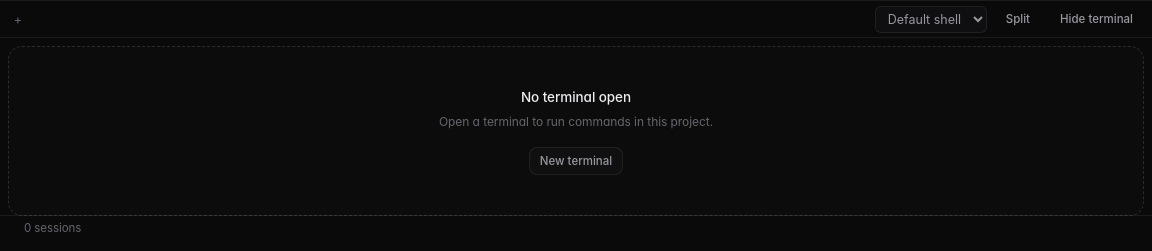
Test case: TerminalPanel › opens a session and renders it as a tab
Check: the text "No terminal open" is shown, box [521,87,631,109]
Click the button named "New terminal" at [18, 19], box [8,9,28,29]
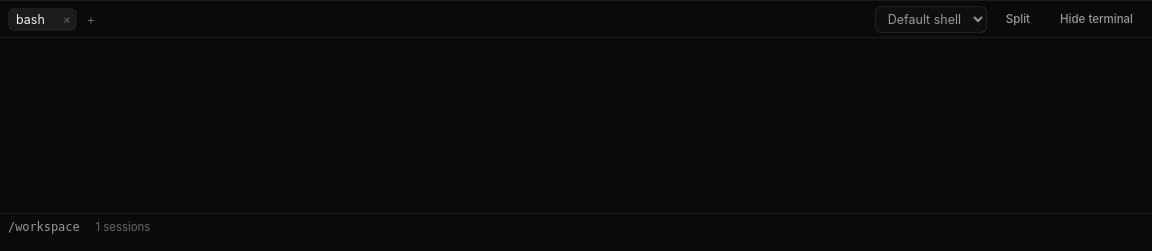
Check: the number of tabs is 1, box [8,8,53,30]
